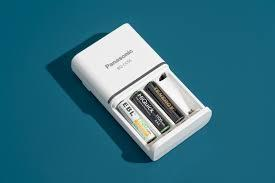battery: (144, 80, 185, 123), (130, 90, 170, 133), (120, 99, 155, 141)
